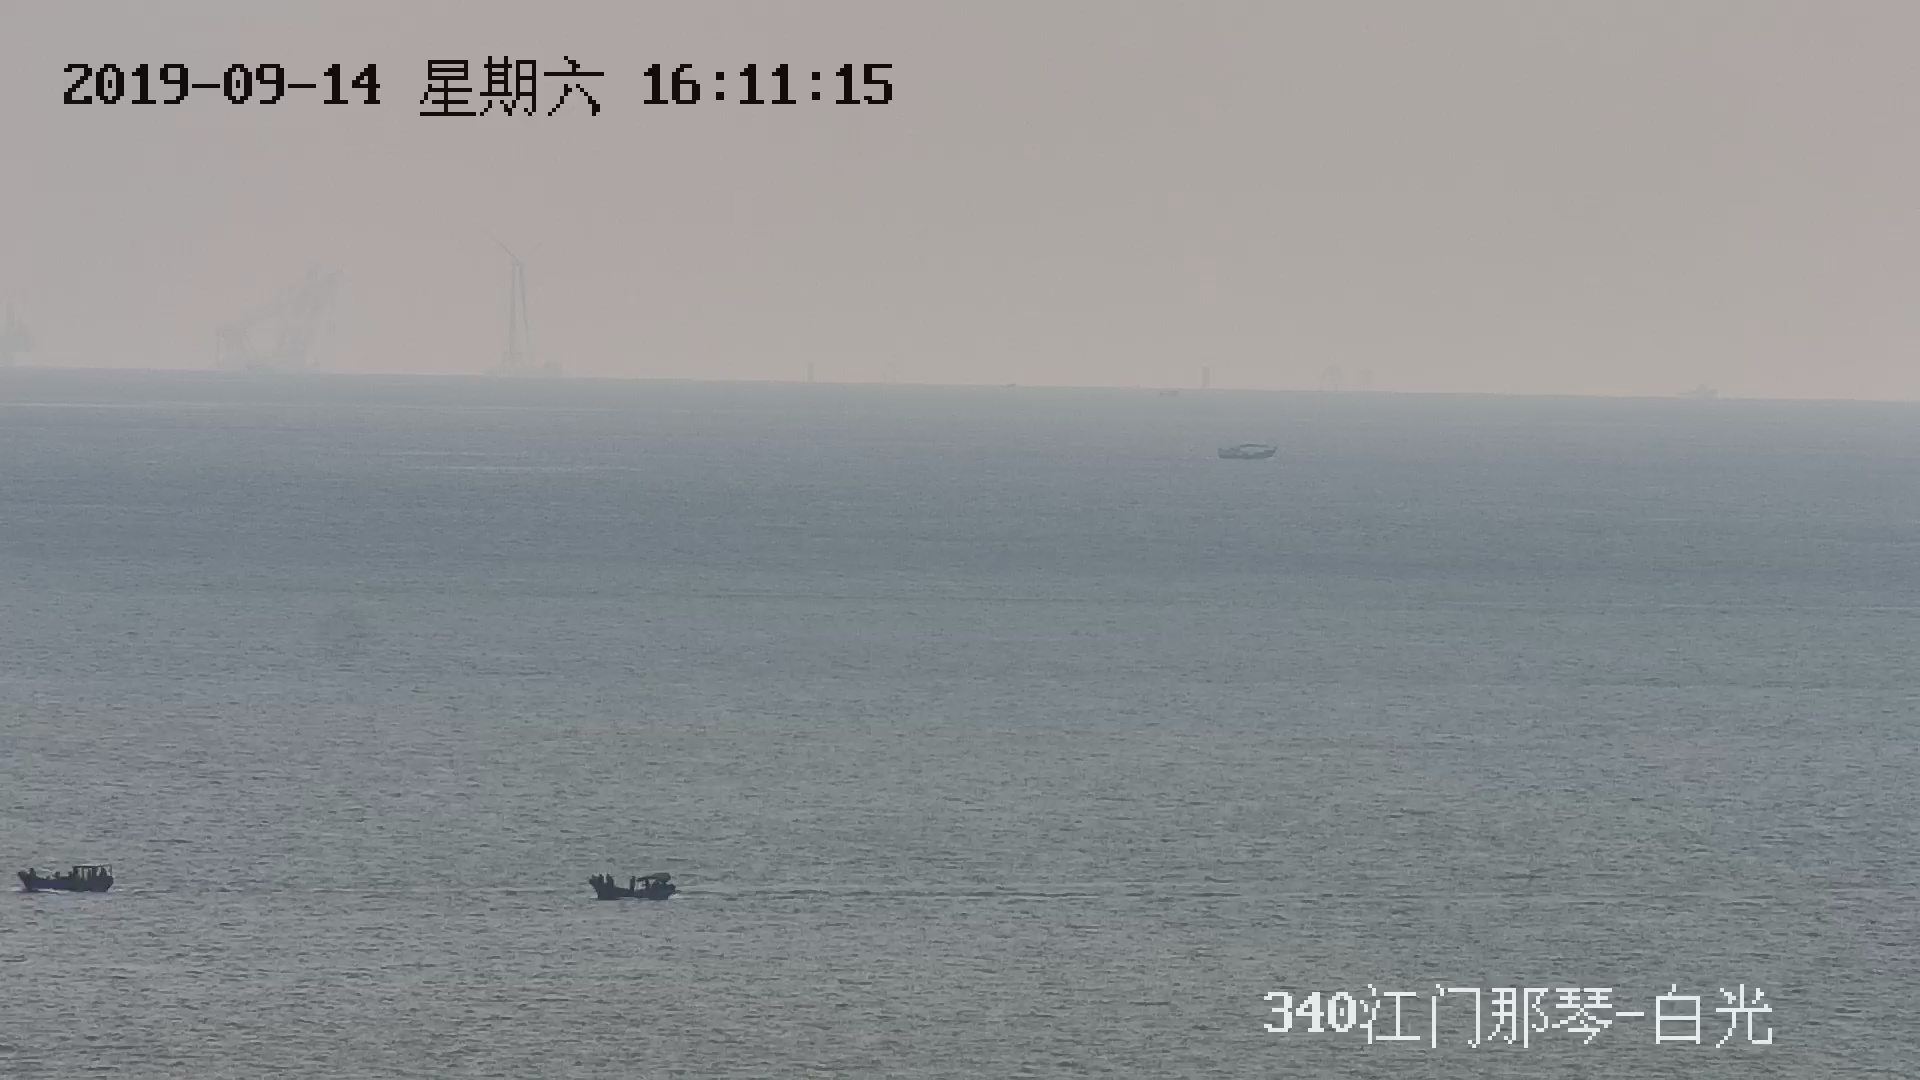ship: (17, 866, 116, 895), (585, 874, 678, 902), (1218, 440, 1276, 462)
